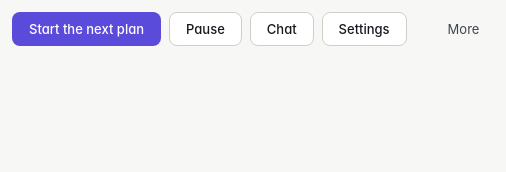
Scenario: ActionBar › draws one primary, three secondary and holds the fifth act in the overflow
Expected: the number of buttons with class "btn--primary" is 1, top-left (12, 12), bottom-right (161, 46)
Expected: the number of buttons with class "btn--secondary" is 3, top-left (169, 12), bottom-right (242, 46); top-left (250, 12), bottom-right (314, 46); top-left (322, 12), bottom-right (407, 46)
Click the button with test id "action-bar-overflow".
click(452, 29)  # box top-left (415, 12), bottom-right (488, 46)
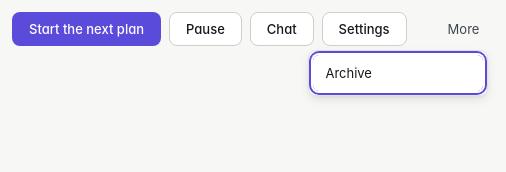
Result: the number of menu items is 1 at top-left (313, 55), bottom-right (483, 91)
